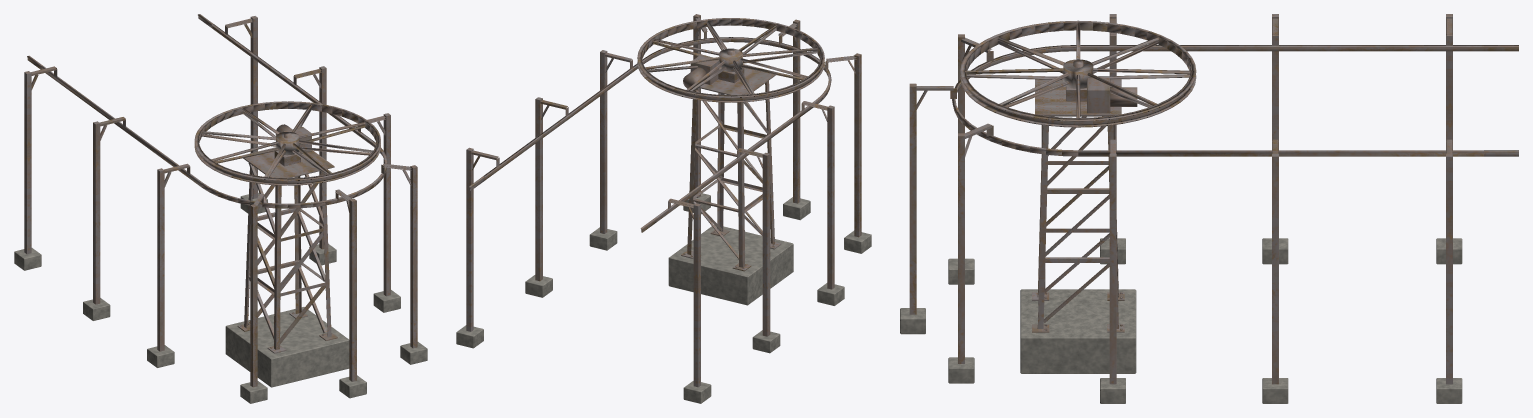
File: CablewayReturnTerminal.fbx
3 views of the same model, side by side, from view 1: azimuth 30°, elevation 25°; view 2: azimuth 150°, elevation 25°; view 3: azimuth 270°, elevation 25° (orthographic). The views are drawn at different scales.
Parts seen in each view (by area): view 1: CablewayReturnTerminal; view 2: CablewayReturnTerminal; view 3: CablewayReturnTerminal.
Boxes of the visible parts, x1,y1,x2,y2 form: CablewayReturnTerminal: [14, 14, 427, 403]; CablewayReturnTerminal: [456, 14, 871, 403]; CablewayReturnTerminal: [900, 14, 1518, 403].
Bounding box in the file's own units: 6.15 × 5.47 × 10.68.
